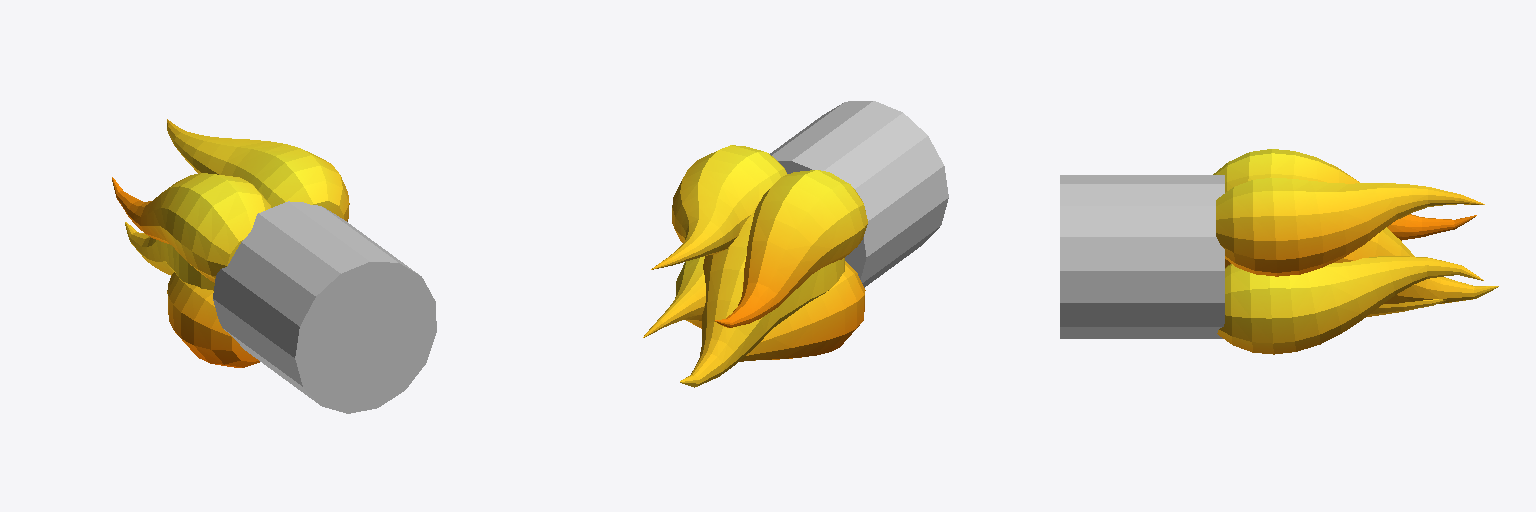
The picture shows the model from 3 angles: view 1: azimuth 30°, elevation 25°; view 2: azimuth 150°, elevation 25°; view 3: azimuth 270°, elevation 25°; orthographic projection.
Parts seen in each view (by area): view 1: Object.1; view 2: Object.1; view 3: Object.1.
Boxes of the visible parts, x1,y1,x2,y2 form: Object.1: [112, 119, 436, 413]; Object.1: [643, 101, 948, 387]; Object.1: [1060, 149, 1498, 354].
Bounding box in the file's own units: 22.99 × 24.31 × 53.41.
Materials: 1 (1 with a texture image).